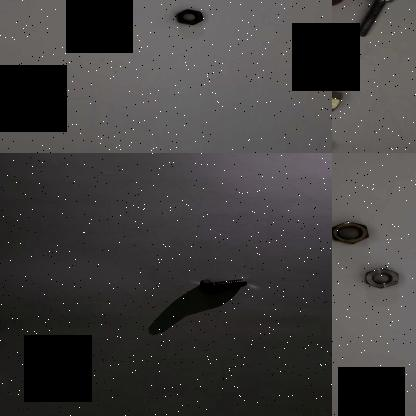Bolts: (345, 0, 395, 40), (199, 271, 248, 295)
NUTS: (360, 266, 402, 290), (332, 219, 370, 245), (174, 5, 206, 26), (332, 85, 346, 115)
